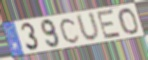3: (20, 22, 41, 53)
9: (39, 18, 61, 49)
C: (59, 17, 82, 45)
E: (96, 9, 123, 41)
O: (117, 7, 140, 35)
U: (74, 11, 101, 43)
